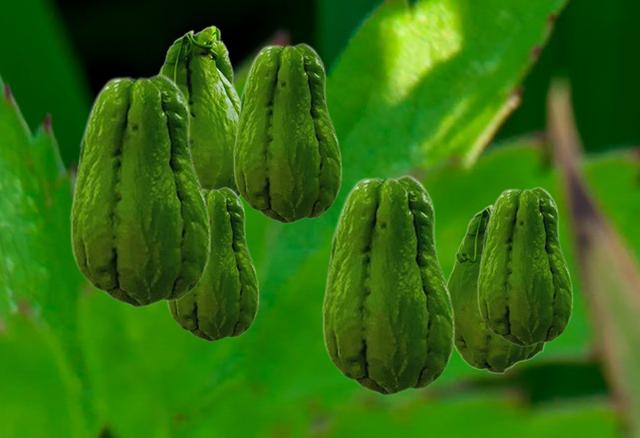sayote: (70, 73, 210, 307), (322, 174, 454, 395), (233, 42, 341, 223), (447, 204, 545, 373), (477, 186, 572, 346), (166, 186, 258, 341), (158, 25, 239, 195)
